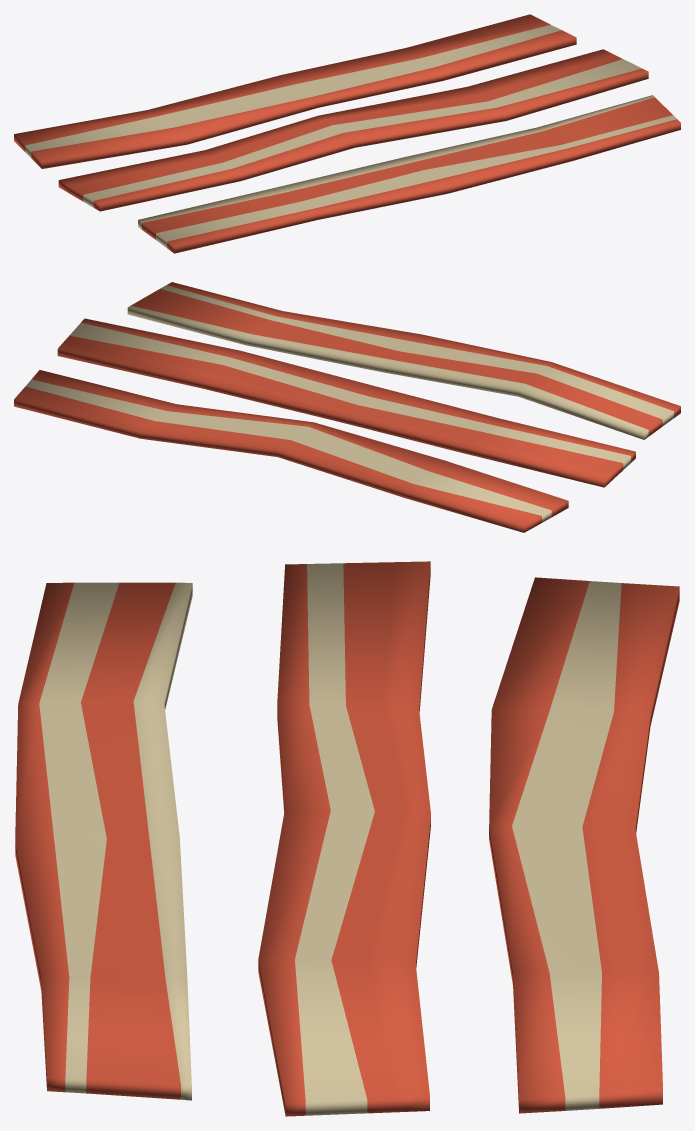
File: Bacon.fbx
3 renders of one model, top to bottom at view 1: azimuth 30°, elevation 25°; view 2: azimuth 150°, elevation 25°; view 3: azimuth 270°, elevation 25°, orthographic. The views are drawn at different scales.
Parts seen in each view (by area): view 1: Bacon; view 2: Bacon; view 3: Bacon.
Boxes of the visible parts, x1,y1,x2,y2 form: Bacon: (14,14,680,253); Bacon: (14,282,680,532); Bacon: (15,561,679,1116).
Bounding box in the file's own units: 2.11 × 0.0732 × 1.1.
